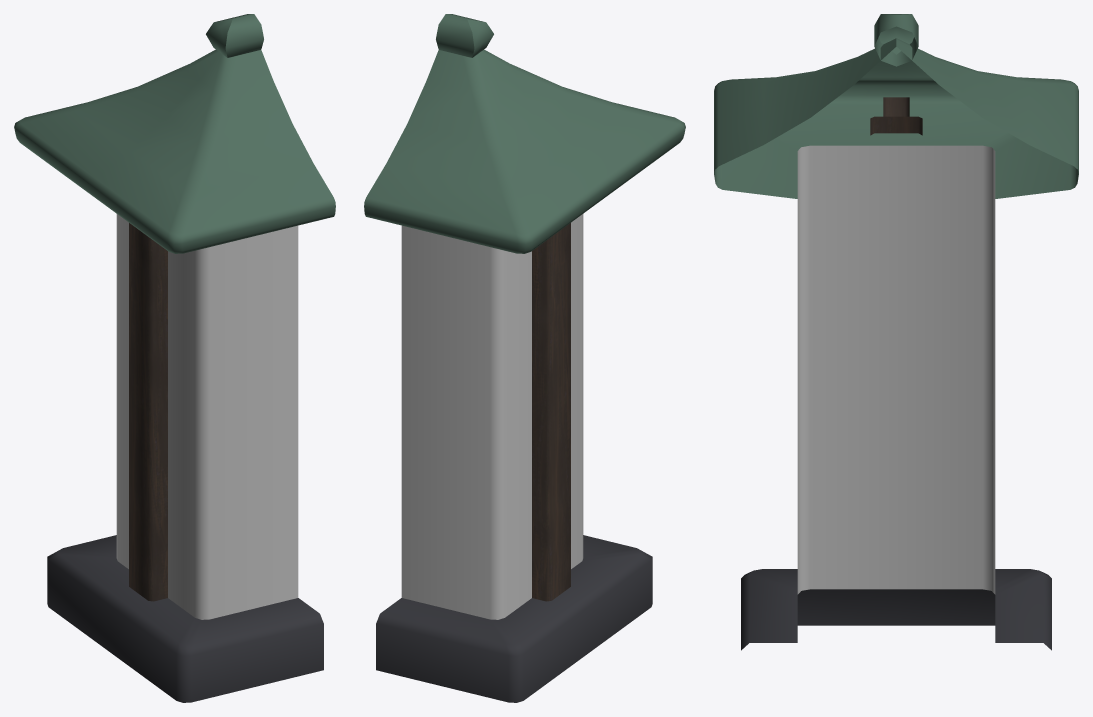
File: Wall_End.fbx
3 views of the same model, side by side, from view 1: azimuth 30°, elevation 25°; view 2: azimuth 150°, elevation 25°; view 3: azimuth 270°, elevation 25° (orthographic). The views are drawn at different scales.
Parts seen in each view (by area): view 1: Wall_End.002; view 2: Wall_End.002; view 3: Wall_End.002.
Boxes of the visible parts, left/top/right/bottom form: Wall_End.002: left=14, top=14, right=335, bottom=702; Wall_End.002: left=364, top=14, right=685, bottom=702; Wall_End.002: left=714, top=14, right=1078, bottom=650.
Size of the model in its own units: 0.7564 by 2.69 by 1.31.
